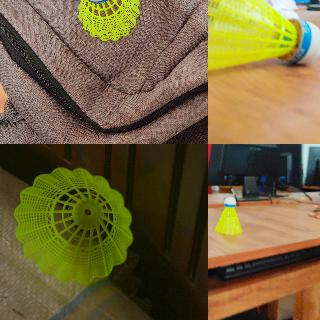shuttlecock: (14, 168, 132, 284), (208, 0, 319, 74), (76, 0, 140, 41), (214, 196, 244, 234)
